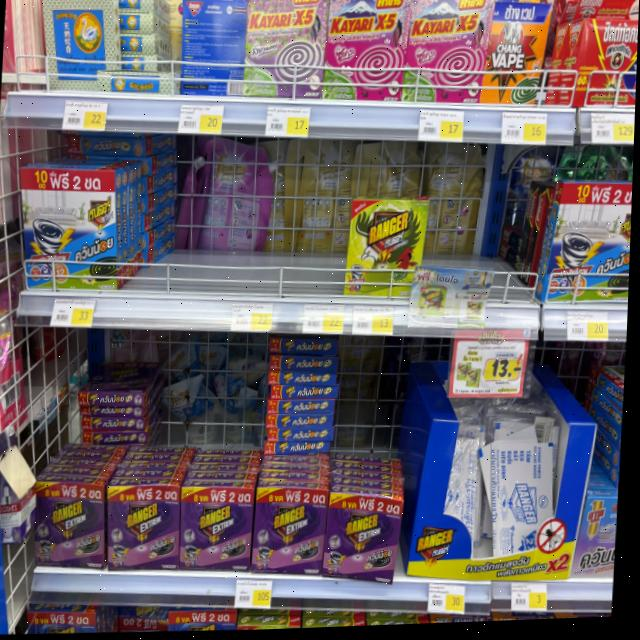empty_shelf: (39, 324, 422, 495), (119, 133, 359, 295), (418, 143, 558, 304)
